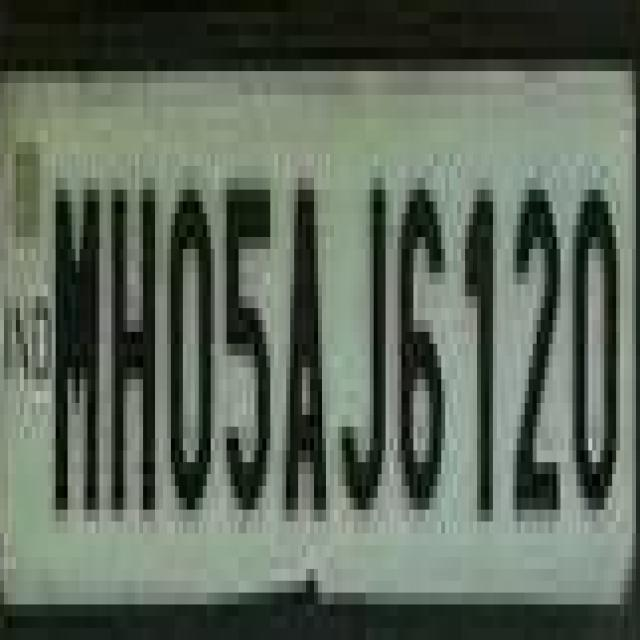plate: (20, 24, 640, 616)
